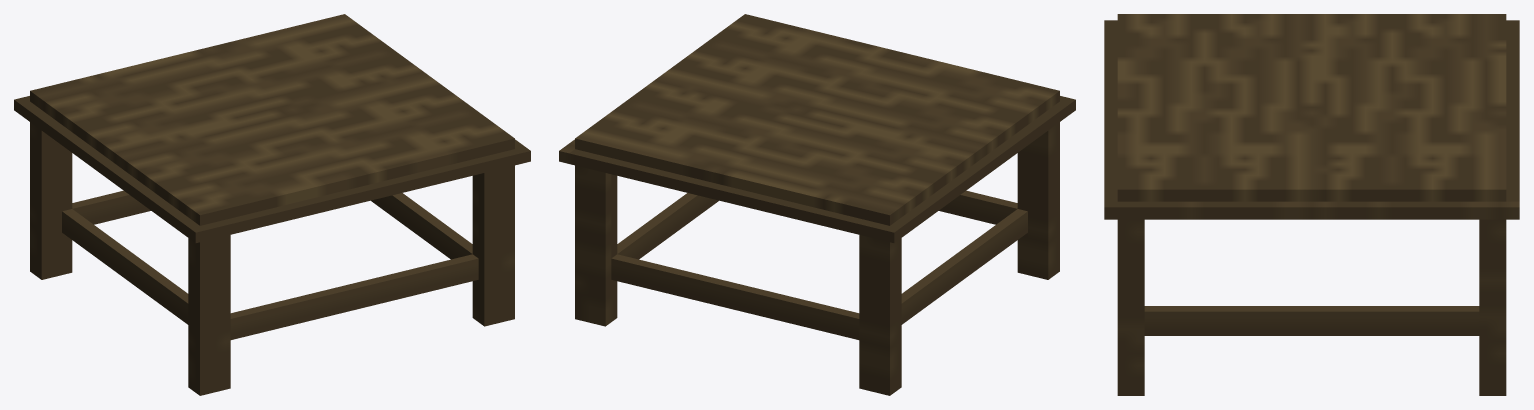
Rendered from Table_Square_00.fbx.
3 views of the same model, side by side, from view 1: azimuth 30°, elevation 25°; view 2: azimuth 150°, elevation 25°; view 3: azimuth 270°, elevation 25° (orthographic). The views are drawn at different scales.
Parts seen in each view (by area): view 1: Table_Square_00; view 2: Table_Square_00; view 3: Table_Square_00.
Boxes of the visible parts, x1,y1,x2,y2 form: Table_Square_00: (14, 14, 530, 395); Table_Square_00: (559, 14, 1075, 395); Table_Square_00: (1104, 14, 1519, 395).
Bounding box in the file's own units: 165 × 85 × 155.
